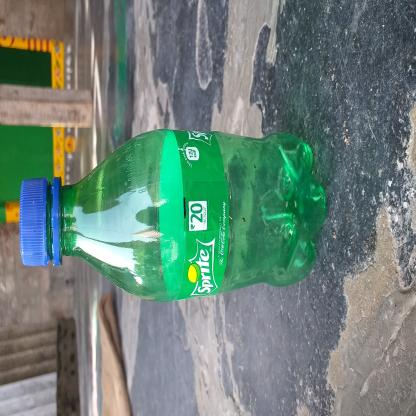bottle: (64, 33, 162, 416)
